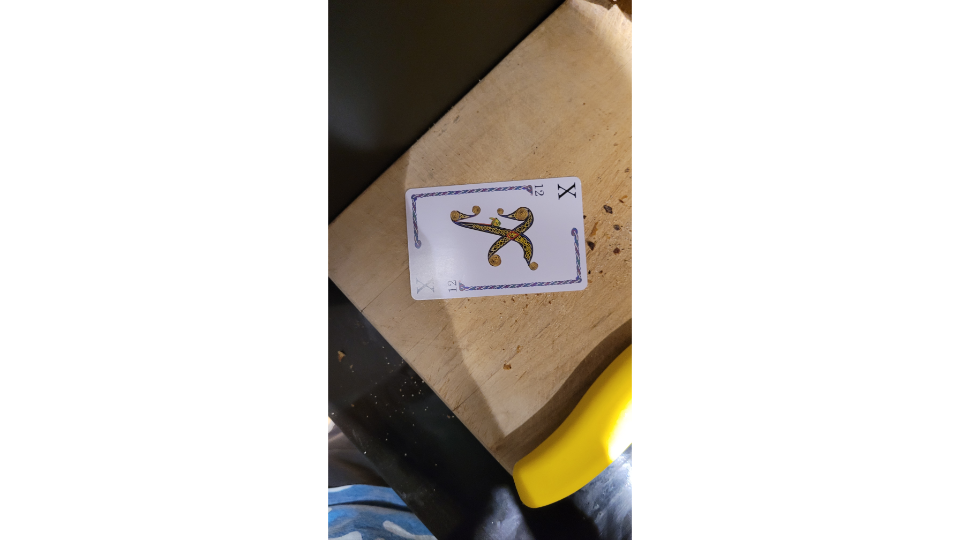X: (402, 175, 589, 303)
